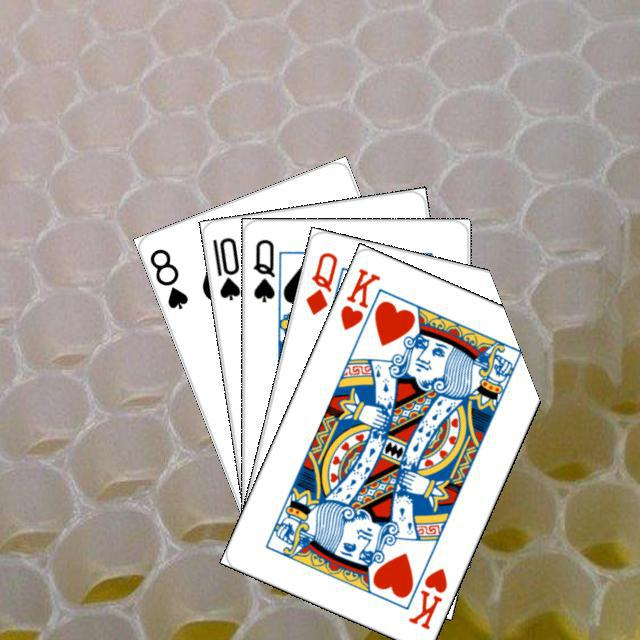10s: (207, 232, 242, 302)
8s: (145, 243, 190, 311)
Kh: (335, 263, 386, 344), (403, 562, 449, 632)
Qd: (301, 247, 339, 317)
Qs: (248, 235, 277, 304)
